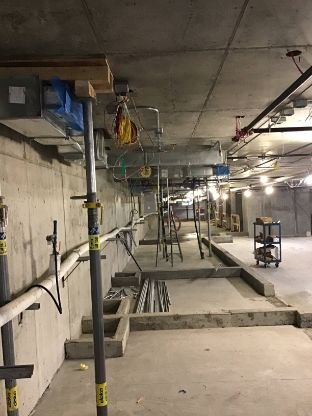Duct: (1, 63, 110, 176)
